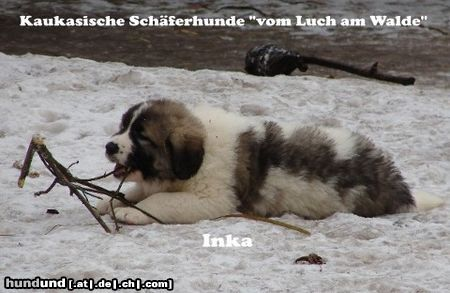cau_ovcharka: (94, 96, 445, 224)
